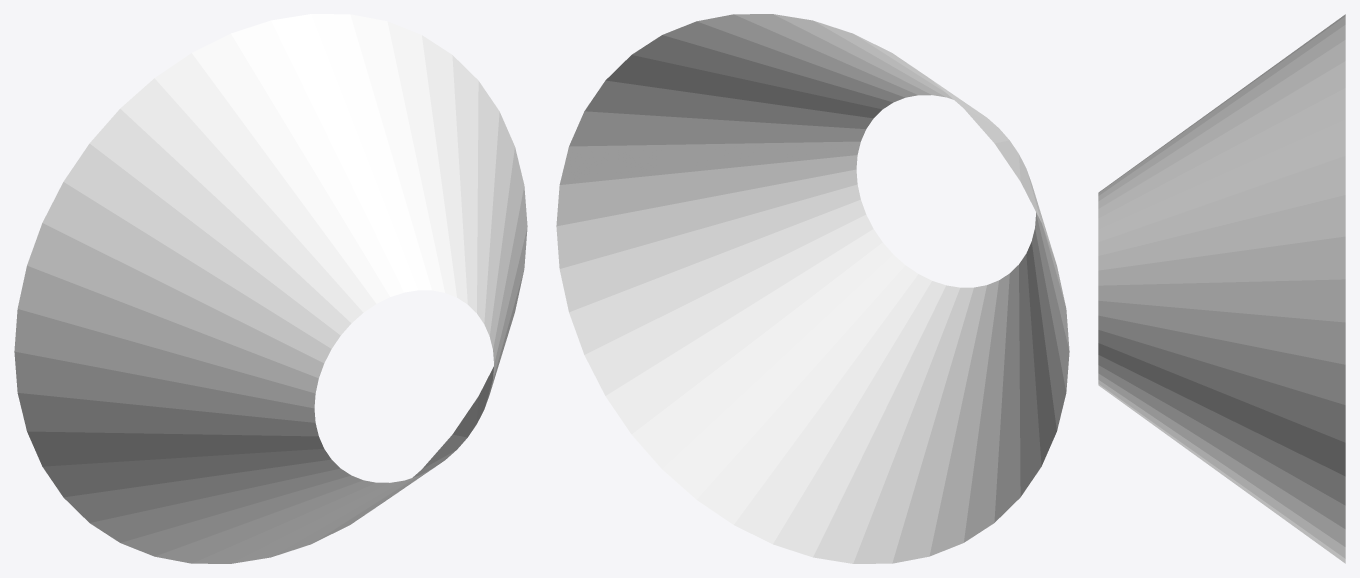
Rendered from WindCone.fbx.
The picture shows the model from 3 angles, left to right: view 1: azimuth 30°, elevation 25°; view 2: azimuth 150°, elevation 25°; view 3: azimuth 270°, elevation 25°; orthographic projection. The views are drawn at different scales.
Visible parts, largest first — view 1: WindCone; view 2: WindCone; view 3: WindCone.
Part boxes in pixels (x1,y1,x2,y2): WindCone: (14, 14, 527, 563); WindCone: (556, 14, 1069, 563); WindCone: (1098, 14, 1345, 563).
Size of the model in its own units: 2 by 2 by 0.9.
1 material, 1 textured.
